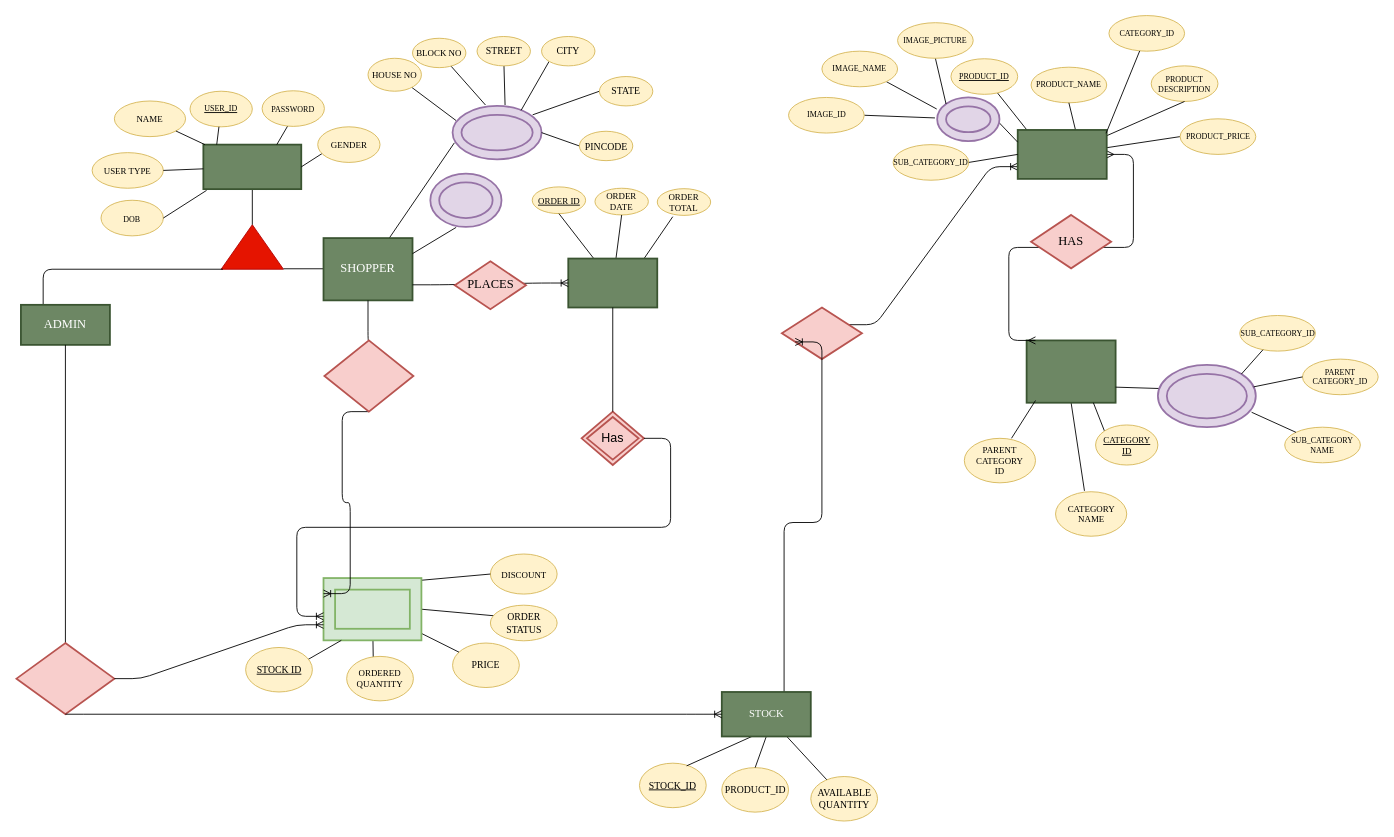
Some shapes in this 1394 by 837 pixel diagram are drawn without their labels. Each missing label, with the centre of its shape:
CATEGORY: the point at 1070,371
CHANGE STATUS: the point at 368,375
CHECK AND MANAGE: the point at 65,678
CONTAINS: the point at 821,333
IMAGES: the point at 968,119
IS A: the point at 251,246
ORDER: the point at 612,282
ORDER ITEM: the point at 372,609
PHONE NO: the point at 465,199
PRODUCT: the point at 1061,154
SHIPPING ADDRESS: the point at 496,132
SUBCATEGORY: the point at 1206,396
USER: the point at 252,166
